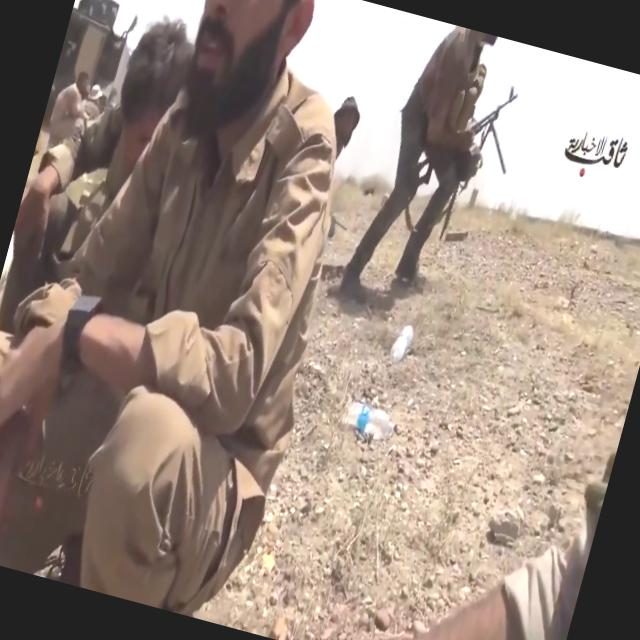long weapon: (437, 51, 542, 221)
